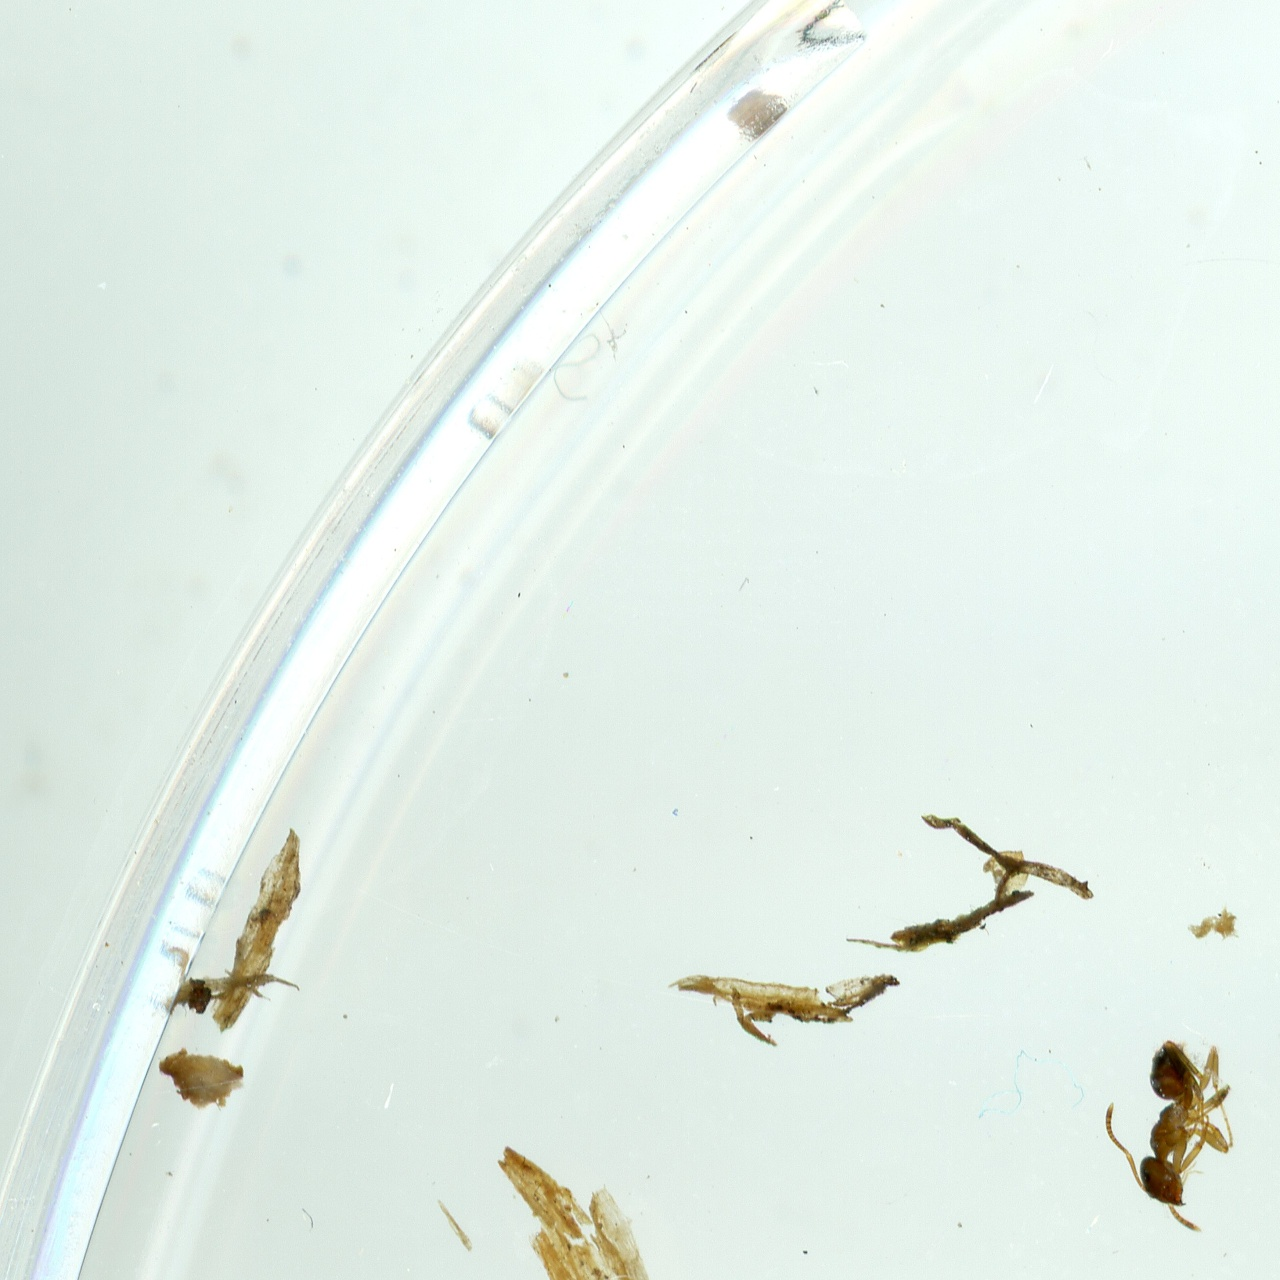arthropod: (1100, 1033, 1238, 1239)
